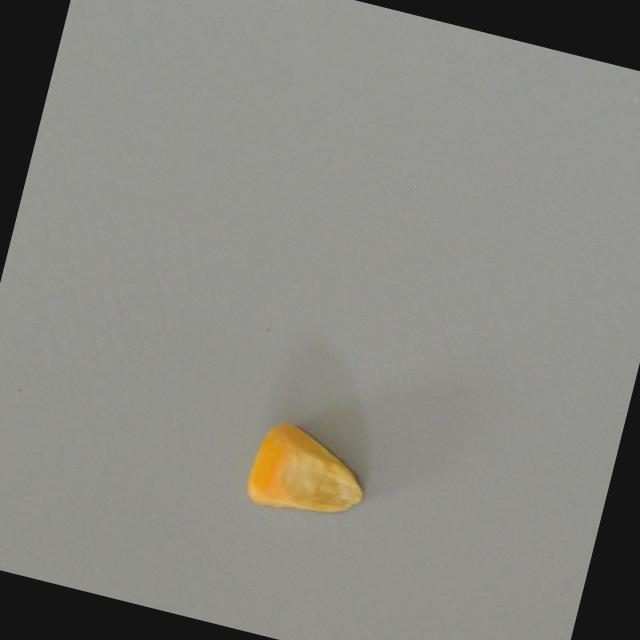entero: (240, 409, 378, 529)
